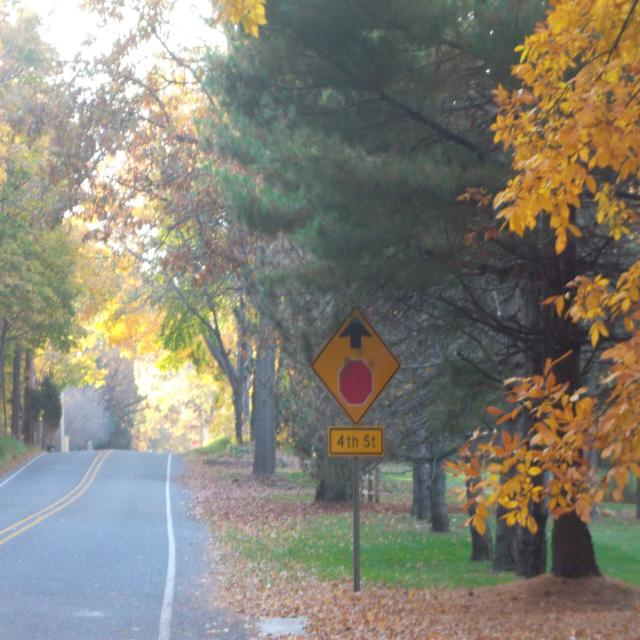stop: (338, 356, 376, 409)
warning: (316, 304, 400, 424)
